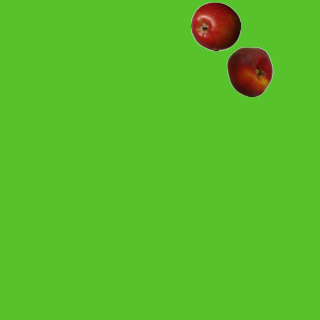Apple Braeburn: (190, 1, 240, 51)
Nectarine Flat: (224, 46, 274, 96)
